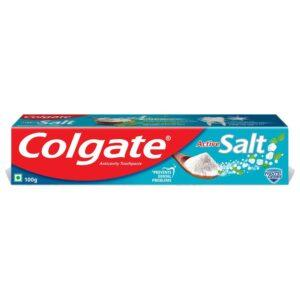Colgate: (11, 113, 288, 185)
